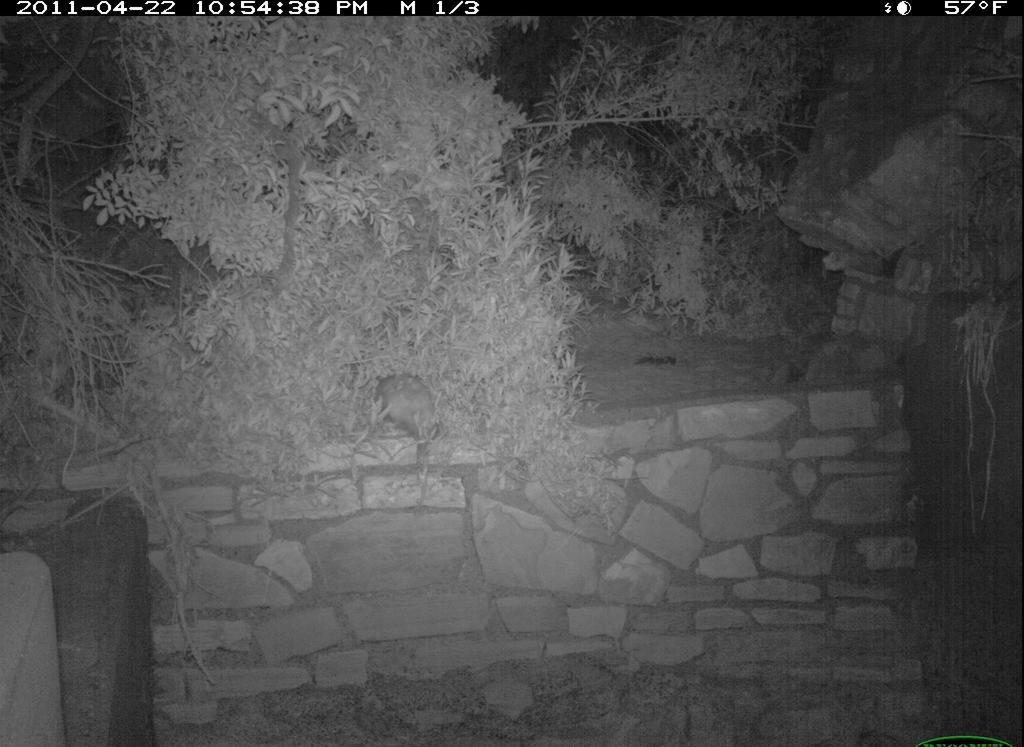opossum: (361, 361, 460, 489)
